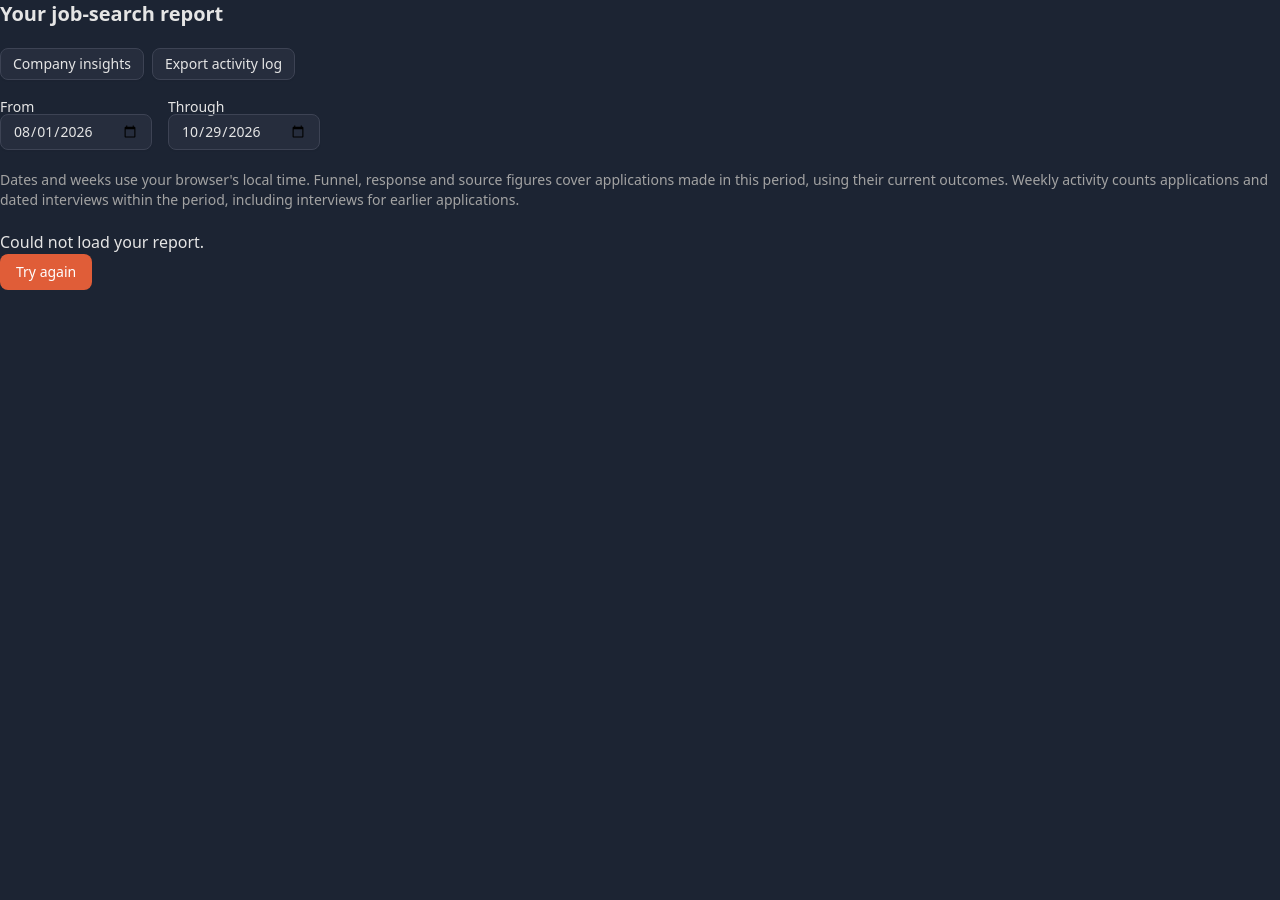
Test case: job-search report UI › retries a failed report request
The width and height of the screenshot is (1280, 900).
Expected: the message shows "Could not load your report", [0,231,204,253]
Step 1. Click the button "Try again" → (46,272), box [0,254,92,290]
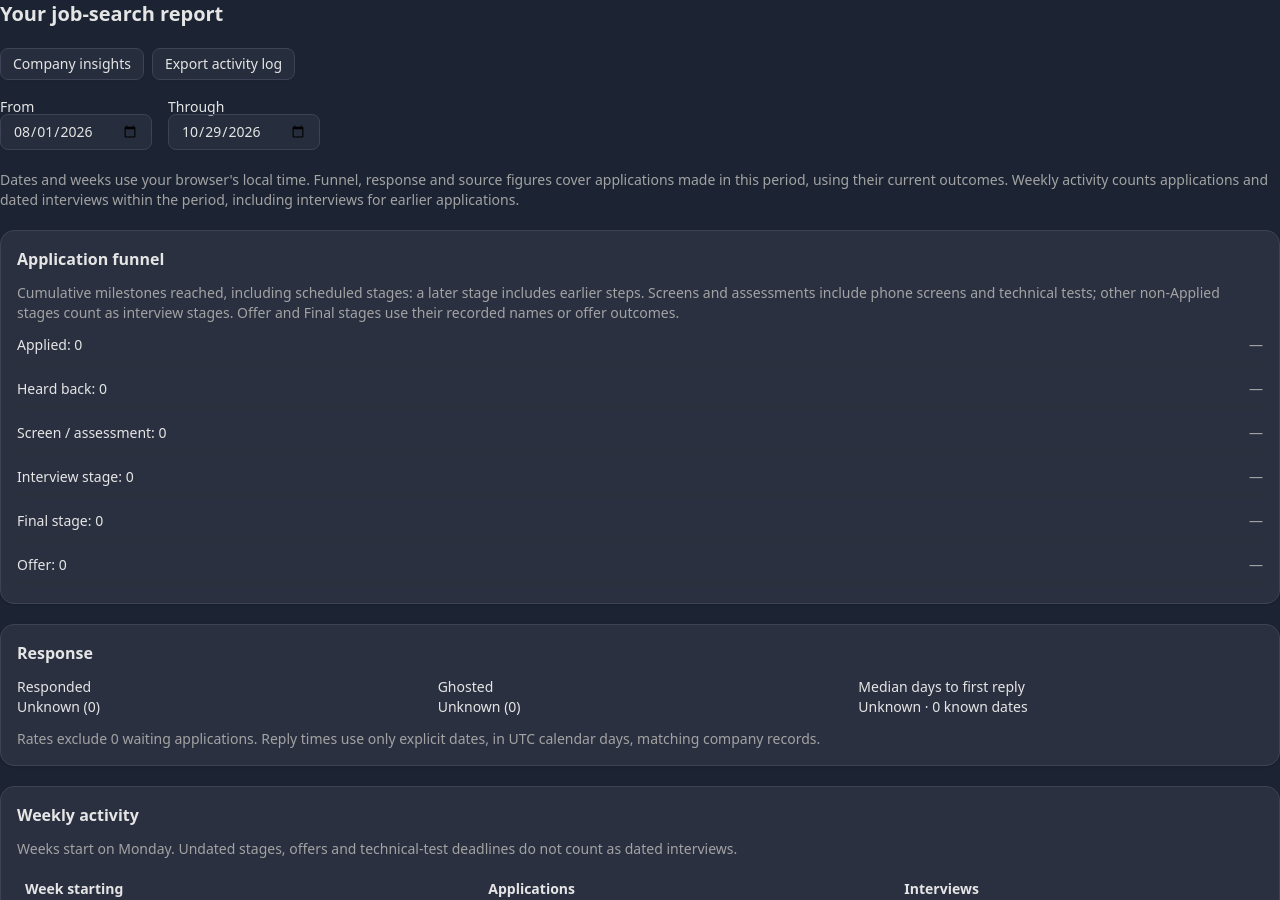
Result: the heading "Application funnel" is shown at [17,248,164,270]
